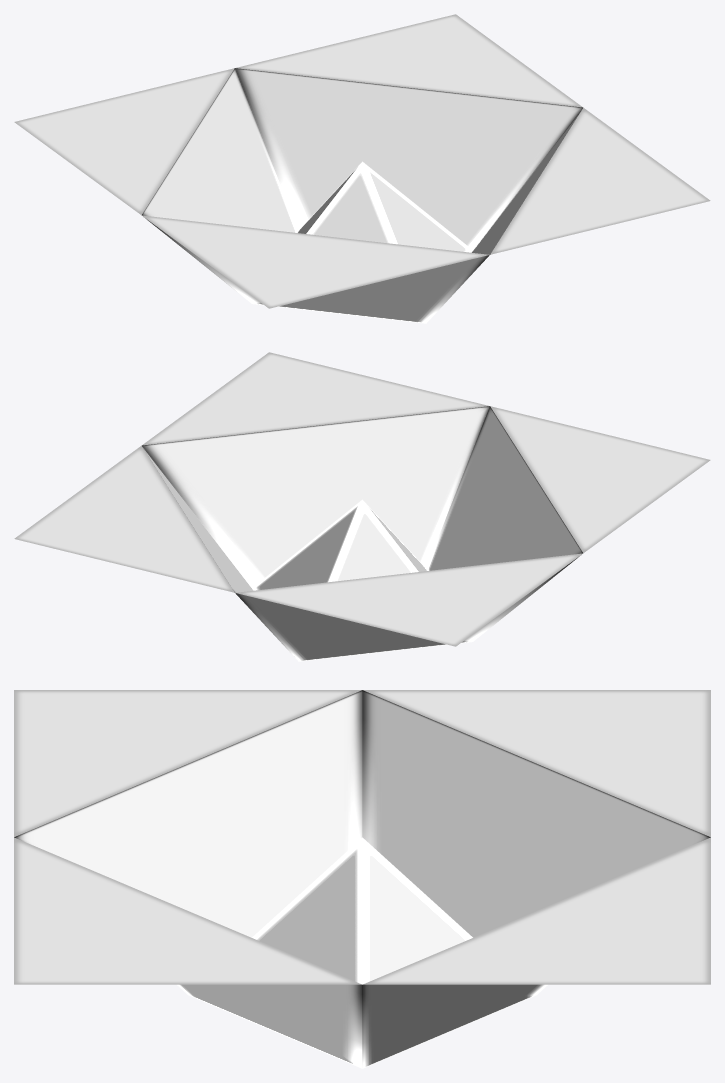
The model's file is obelisk_0-high_normal.fbx.
3 views of the same model, one above another, from view 1: azimuth 30°, elevation 25°; view 2: azimuth 150°, elevation 25°; view 3: azimuth 270°, elevation 25° (orthographic). The views are drawn at different scales.
Parts seen in each view (by area): view 1: obelisk_0-high_normal; view 2: obelisk_0-high_normal; view 3: obelisk_0-high_normal.
Part boxes in pixels (x1=…): obelisk_0-high_normal: x1=14, y1=14, x2=710, y2=323; obelisk_0-high_normal: x1=14, y1=352, x2=710, y2=661; obelisk_0-high_normal: x1=14, y1=690, x2=710, y2=1068.
Size of the model in its own units: 100 by 25 by 100.
